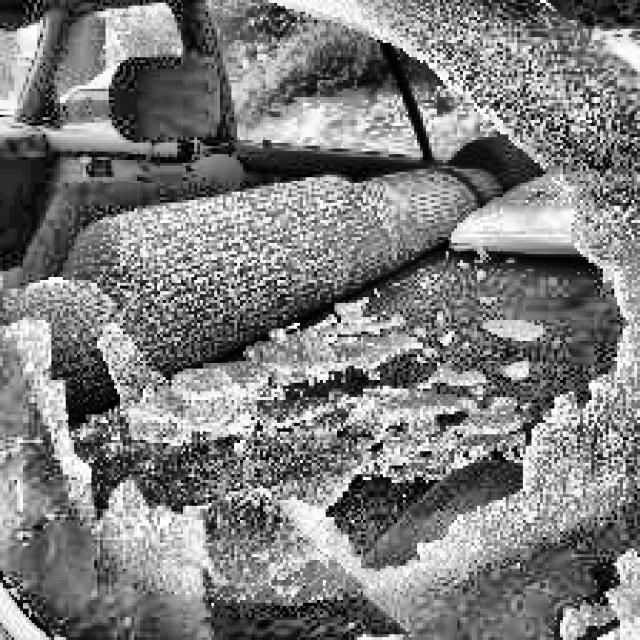glass_shatter: (9, 7, 640, 624)
